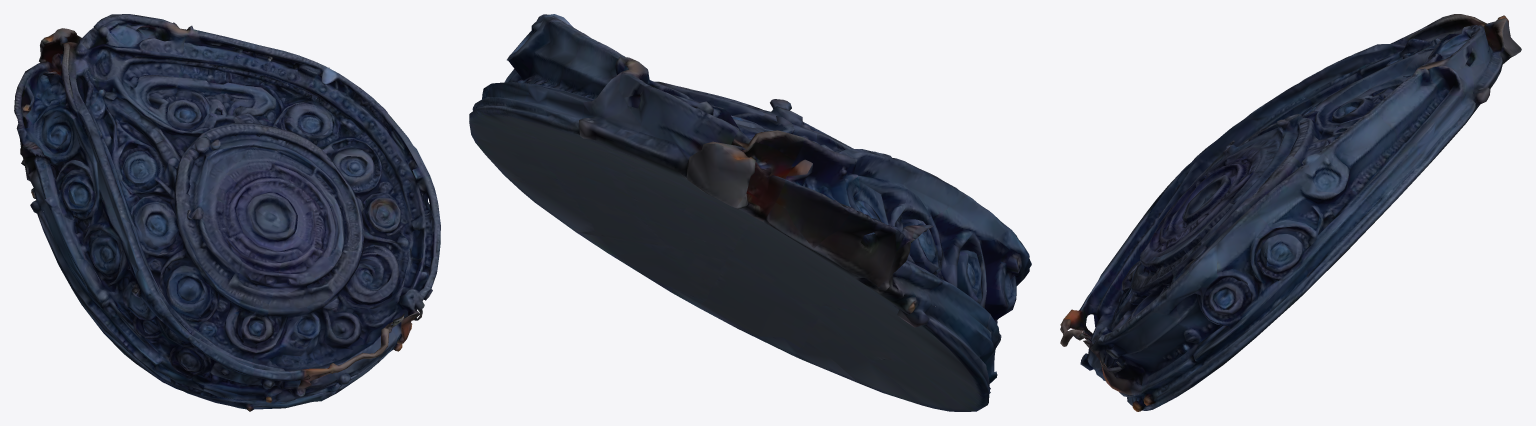
File: dark_wave.glb
3 renders of one model, left to right at view 1: azimuth 30°, elevation 25°; view 2: azimuth 150°, elevation 25°; view 3: azimuth 270°, elevation 25°, orthographic. The views are drawn at different scales.
Visible parts, largest first — view 1: tripo_node_69b74726-f2ea-4b9b-8ce7-44d4e60dafef; view 2: tripo_node_69b74726-f2ea-4b9b-8ce7-44d4e60dafef; view 3: tripo_node_69b74726-f2ea-4b9b-8ce7-44d4e60dafef.
Boxes of the visible parts, left/top/right/bottom form: tripo_node_69b74726-f2ea-4b9b-8ce7-44d4e60dafef: left=14, top=14, right=440, bottom=411; tripo_node_69b74726-f2ea-4b9b-8ce7-44d4e60dafef: left=469, top=14, right=1031, bottom=411; tripo_node_69b74726-f2ea-4b9b-8ce7-44d4e60dafef: left=1060, top=14, right=1521, bottom=411.
Bounding box in the file's own units: 0.9215 × 0.7932 × 0.9798.
1 material, 1 textured.
